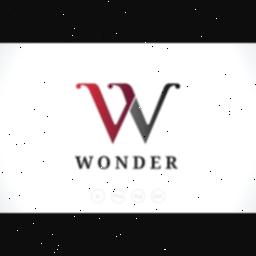d: (132, 154, 146, 170)
e: (148, 154, 162, 172)
n: (114, 154, 128, 172)
o: (96, 154, 112, 172)
r: (164, 154, 178, 172)
w: (73, 74, 183, 148), (74, 154, 94, 170)
